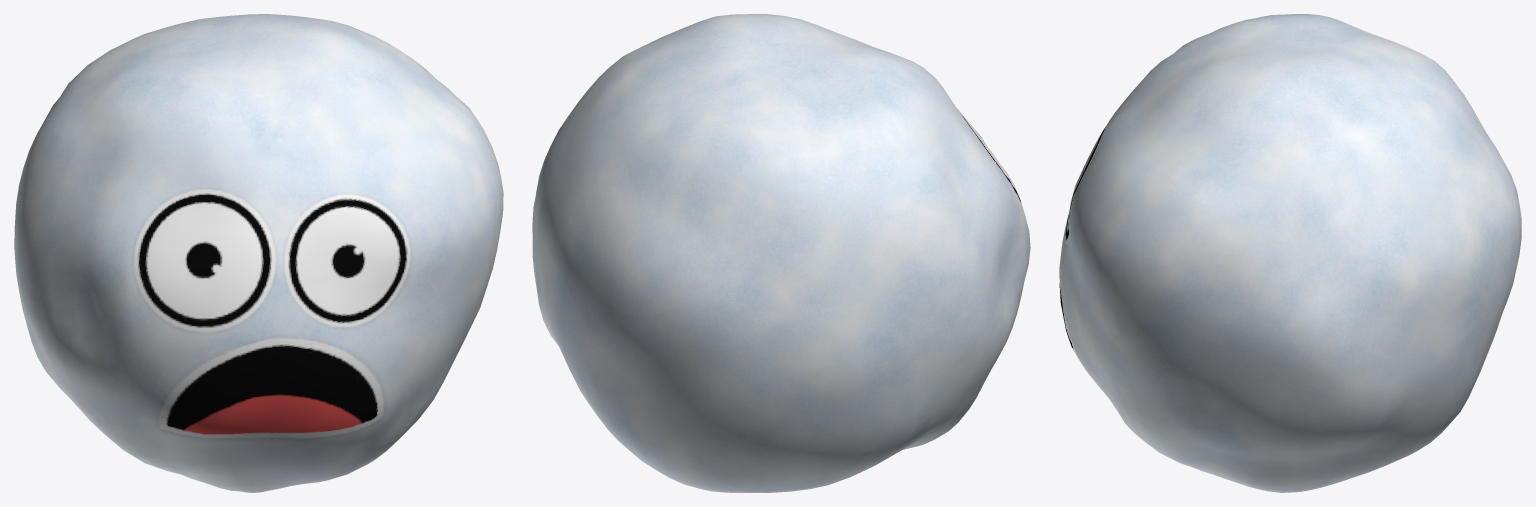
The model's file is snowball.fbx.
3 views of the same model, side by side, from view 1: azimuth 30°, elevation 25°; view 2: azimuth 150°, elevation 25°; view 3: azimuth 270°, elevation 25° (orthographic). The views are drawn at different scales.
Parts seen in each view (by area): view 1: node_id5; view 2: node_id5; view 3: node_id5.
Part boxes in pixels (<box>): node_id5: <box>14,14,503,492</box>; node_id5: <box>532,14,1030,492</box>; node_id5: <box>1059,14,1521,492</box>.
Size of the model in its own units: 0.512 by 0.4861 by 0.4844.
1 material, 1 textured.
